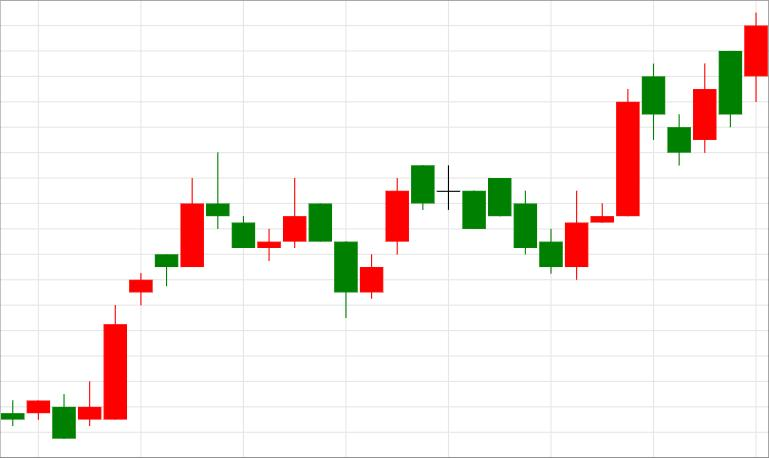bullish_engulfing_rise: (411, 165, 588, 279)
